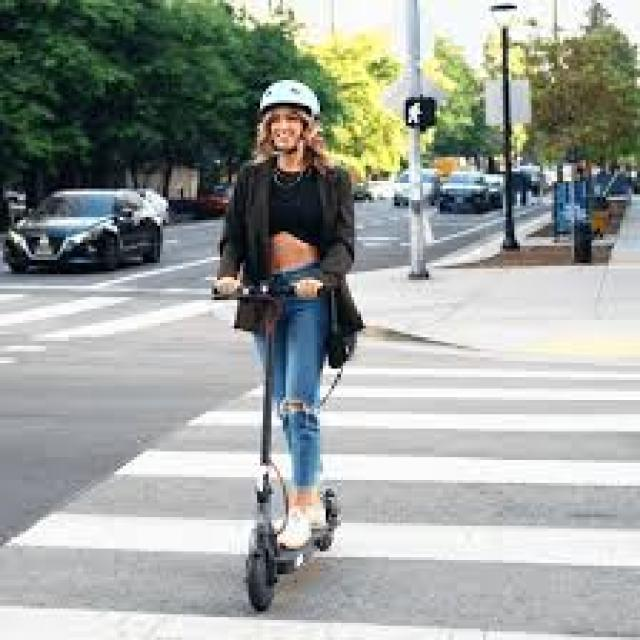helmet: (199, 72, 371, 616)
